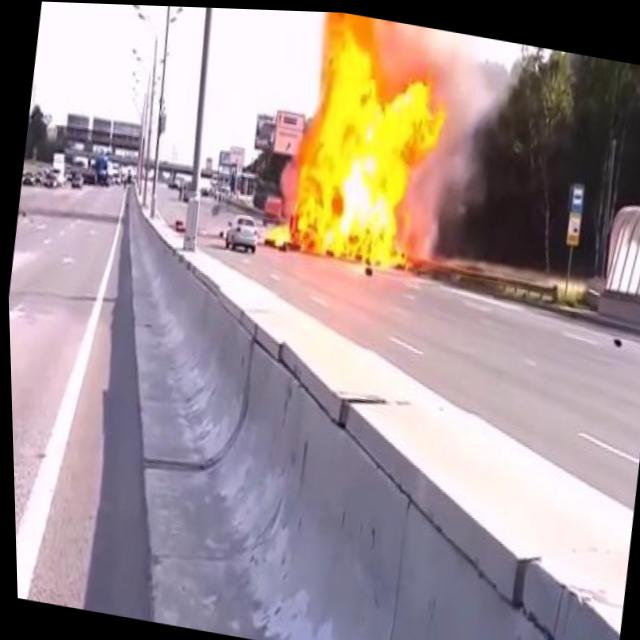fire: (256, 7, 462, 283)
